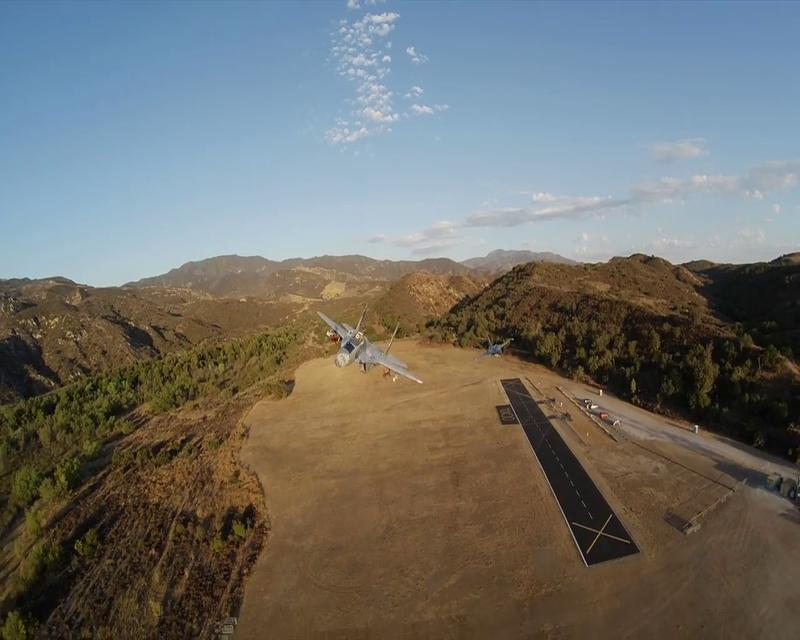UAV: (314, 302, 424, 384), (474, 335, 512, 360)
